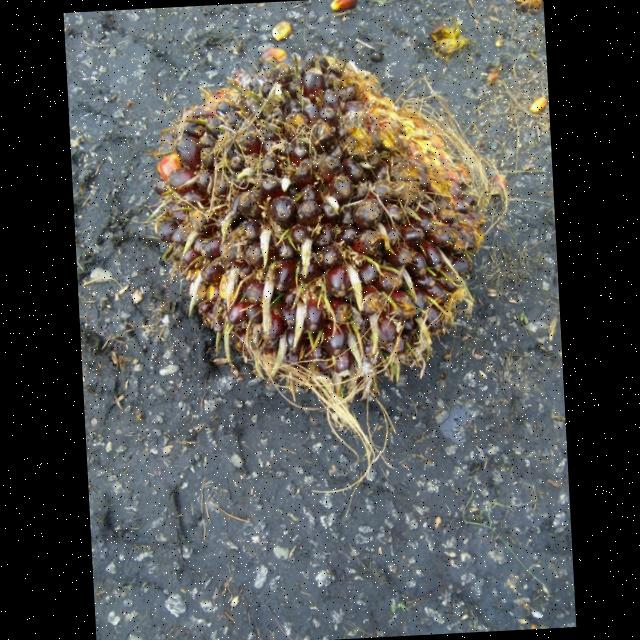Unripe: (147, 50, 495, 393)
